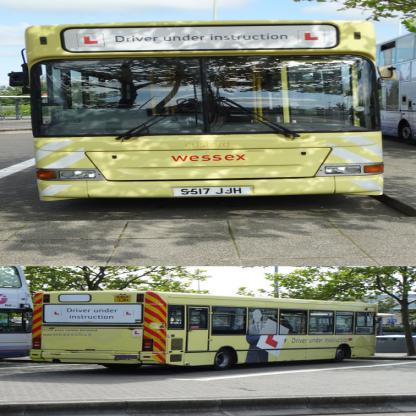Bus: (5, 20, 396, 202), (30, 287, 386, 373), (371, 29, 415, 147), (0, 265, 37, 358)
